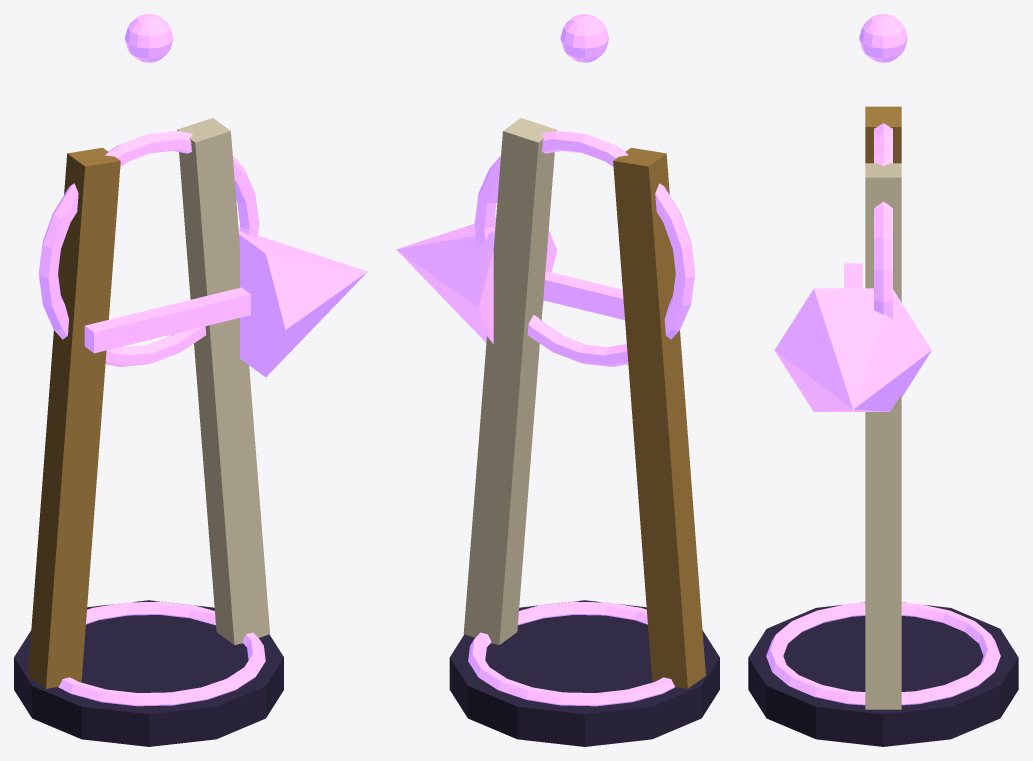
File: runtime.glb
3 views of the same model, side by side, from view 1: azimuth 30°, elevation 25°; view 2: azimuth 150°, elevation 25°; view 3: azimuth 270°, elevation 25° (orthographic).
Visible parts, largest first — view 1: aetherion-orbit-beacon-v03_left_leg_nocol, aetherion-orbit-beacon-v03_right_leg_nocol, aetherion-orbit-beacon-v03_base_nocol, aetherion-orbit-beacon-v03_direction_head_nocol, aetherion-orbit-beacon-v03_open_hoop_nocol, aetherion-orbit-beacon-v03_base_orbit_nocol, aetherion-orbit-beacon-v03_direction_bar_nocol, aetherion-orbit-beacon-v03_zenith_nocol; view 2: aetherion-orbit-beacon-v03_left_leg_nocol, aetherion-orbit-beacon-v03_right_leg_nocol, aetherion-orbit-beacon-v03_base_nocol, aetherion-orbit-beacon-v03_open_hoop_nocol, aetherion-orbit-beacon-v03_direction_head_nocol, aetherion-orbit-beacon-v03_base_orbit_nocol, aetherion-orbit-beacon-v03_direction_bar_nocol, aetherion-orbit-beacon-v03_zenith_nocol; view 3: aetherion-orbit-beacon-v03_base_nocol, aetherion-orbit-beacon-v03_right_leg_nocol, aetherion-orbit-beacon-v03_direction_head_nocol, aetherion-orbit-beacon-v03_base_orbit_nocol, aetherion-orbit-beacon-v03_open_hoop_nocol, aetherion-orbit-beacon-v03_zenith_nocol, aetherion-orbit-beacon-v03_left_leg_nocol, aetherion-orbit-beacon-v03_direction_bar_nocol.
Part boxes in pixels (left/top/right/bottom): aetherion-orbit-beacon-v03_left_leg_nocol: left=28, top=147, right=120, bottom=688; aetherion-orbit-beacon-v03_right_leg_nocol: left=177, top=118, right=269, bottom=645; aetherion-orbit-beacon-v03_base_nocol: left=14, top=600, right=283, bottom=746; aetherion-orbit-beacon-v03_direction_head_nocol: left=238, top=229, right=367, bottom=377; aetherion-orbit-beacon-v03_open_hoop_nocol: left=39, top=131, right=258, bottom=366; aetherion-orbit-beacon-v03_base_orbit_nocol: left=58, top=601, right=265, bottom=706; aetherion-orbit-beacon-v03_direction_bar_nocol: left=84, top=287, right=250, bottom=353; aetherion-orbit-beacon-v03_zenith_nocol: left=124, top=14, right=173, bottom=62; aetherion-orbit-beacon-v03_left_leg_nocol: left=613, top=147, right=705, bottom=688; aetherion-orbit-beacon-v03_right_leg_nocol: left=463, top=118, right=556, bottom=644; aetherion-orbit-beacon-v03_base_nocol: left=449, top=600, right=719, bottom=746; aetherion-orbit-beacon-v03_open_hoop_nocol: left=474, top=131, right=694, bottom=366; aetherion-orbit-beacon-v03_direction_head_nocol: left=396, top=216, right=557, bottom=343; aetherion-orbit-beacon-v03_base_orbit_nocol: left=468, top=601, right=675, bottom=706; aetherion-orbit-beacon-v03_direction_bar_nocol: left=543, top=271, right=624, bottom=320; aetherion-orbit-beacon-v03_zenith_nocol: left=560, top=14, right=609, bottom=62; aetherion-orbit-beacon-v03_base_nocol: left=748, top=602, right=1018, bottom=746; aetherion-orbit-beacon-v03_right_leg_nocol: left=865, top=163, right=901, bottom=709; aetherion-orbit-beacon-v03_direction_head_nocol: left=774, top=288, right=931, bottom=411; aetherion-orbit-beacon-v03_base_orbit_nocol: left=766, top=602, right=1000, bottom=705; aetherion-orbit-beacon-v03_open_hoop_nocol: left=874, top=123, right=892, bottom=319; aetherion-orbit-beacon-v03_zenith_nocol: left=859, top=14, right=907, bottom=62; aetherion-orbit-beacon-v03_left_leg_nocol: left=865, top=106, right=901, bottom=163; aetherion-orbit-beacon-v03_direction_bar_nocol: left=844, top=263, right=862, bottom=288.
Size of the model in its own units: 5.14 by 10.32 by 3.75.
